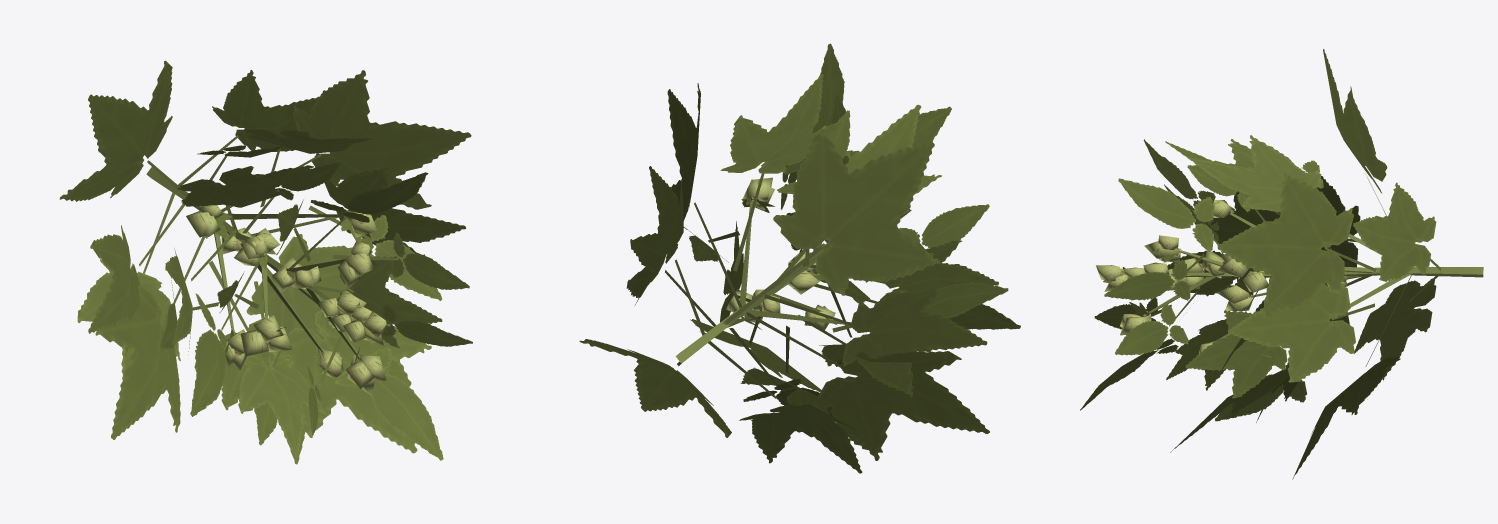
File: p_male_afghan_flowering_c1_cards.obj
The picture shows the model from 3 angles, left to right: view 1: azimuth 30°, elevation 25°; view 2: azimuth 150°, elevation 25°; view 3: azimuth 270°, elevation 25°; orthographic projection. The views are drawn at different scales.
Bounding box in the file's own units: 1.26 × 1.26 × 1.15.
Materials: 1 (1 with a texture image).
